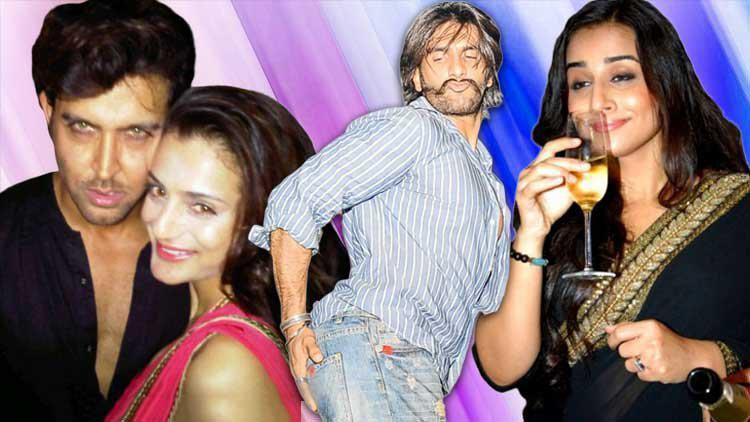Drunk: (53, 77, 145, 219), (559, 34, 658, 153), (150, 144, 234, 281), (425, 27, 485, 109)
